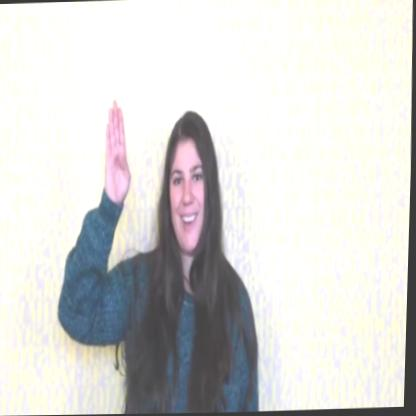Hello: (85, 76, 233, 321)
